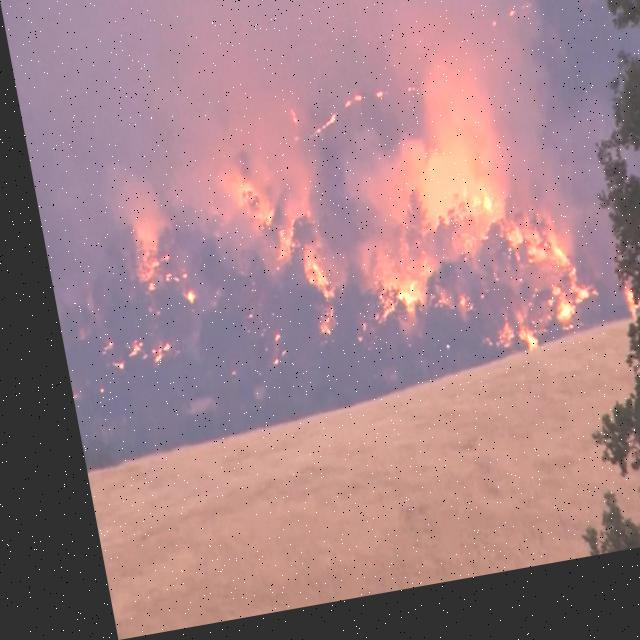Fire: (107, 157, 330, 393), (354, 170, 582, 379)
